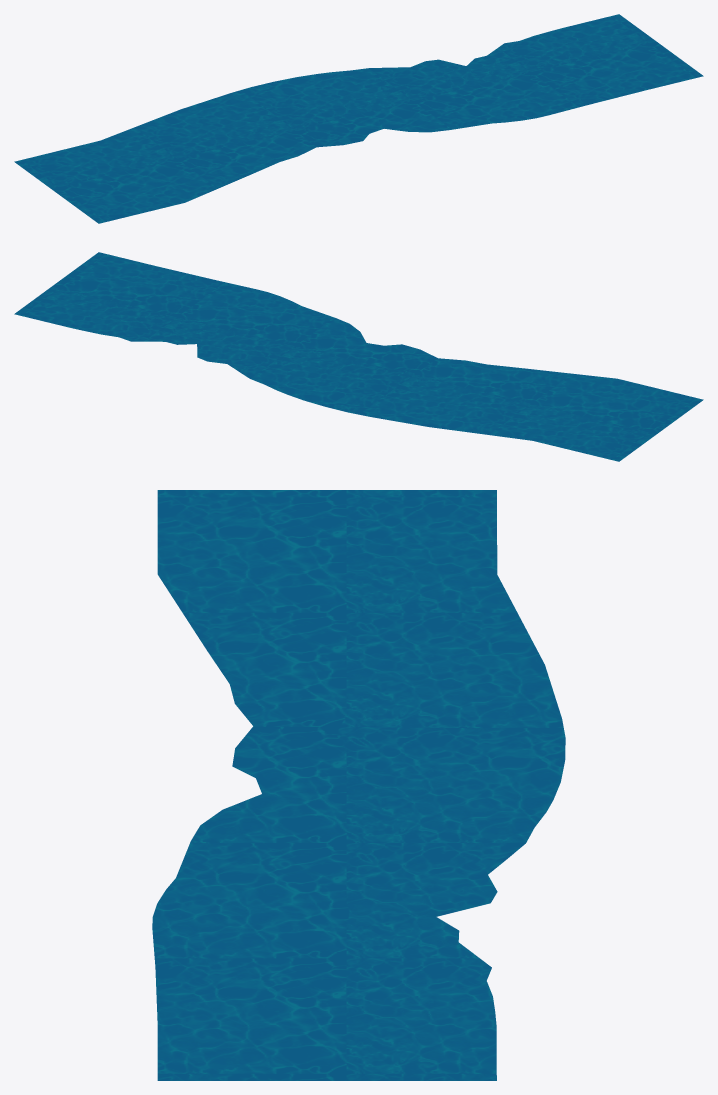
File: River5.glb
3 renders of one model, top to bottom at view 1: azimuth 30°, elevation 25°; view 2: azimuth 150°, elevation 25°; view 3: azimuth 270°, elevation 25°, orthographic. The views are drawn at different scales.
Visible parts, largest first — view 1: River5; view 2: River5; view 3: River5.
Boxes of the visible parts, <box> form: River5: <box>14,14,703,223</box>; River5: <box>14,252,703,461</box>; River5: <box>152,490,565,1080</box>.
Size of the model in its own units: 5.04 by 0 by 1.49.
Materials: 1 (1 with a texture image).
